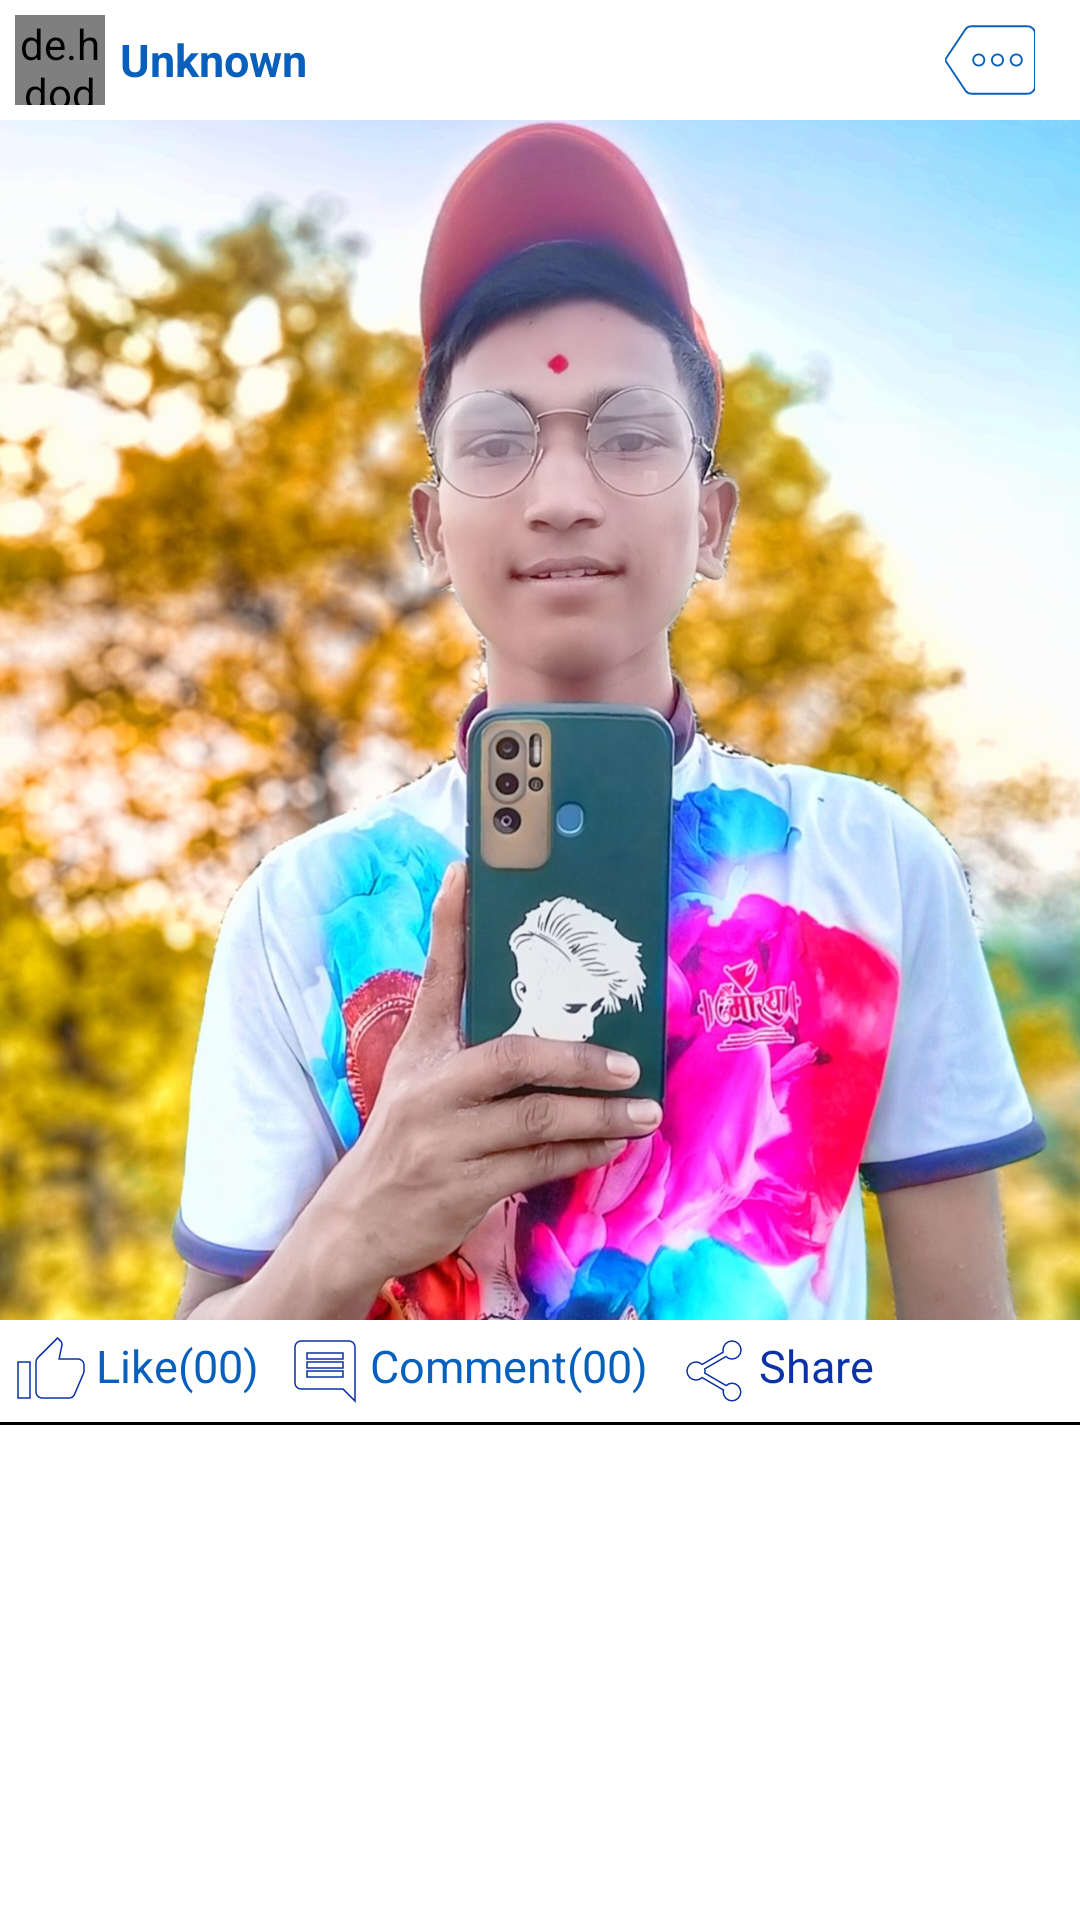

Icon click points for this 1080px×1920px phone screenshot, format point (x, y):
more: point (990, 60)
